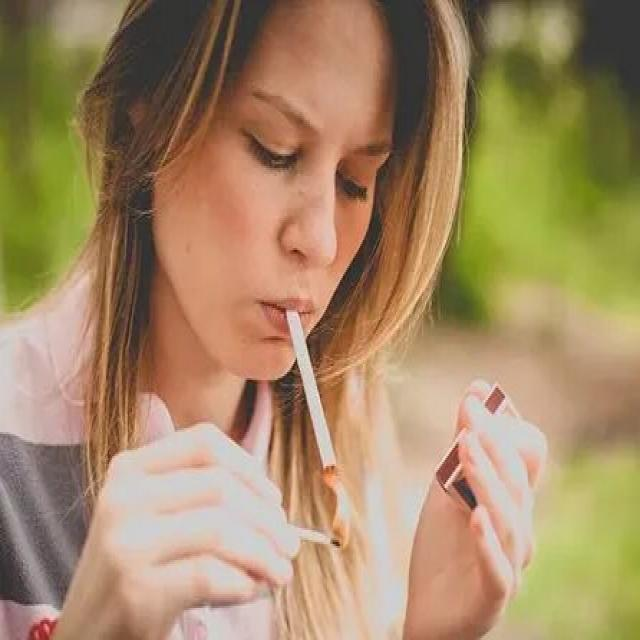cigarette: (281, 304, 340, 478)
